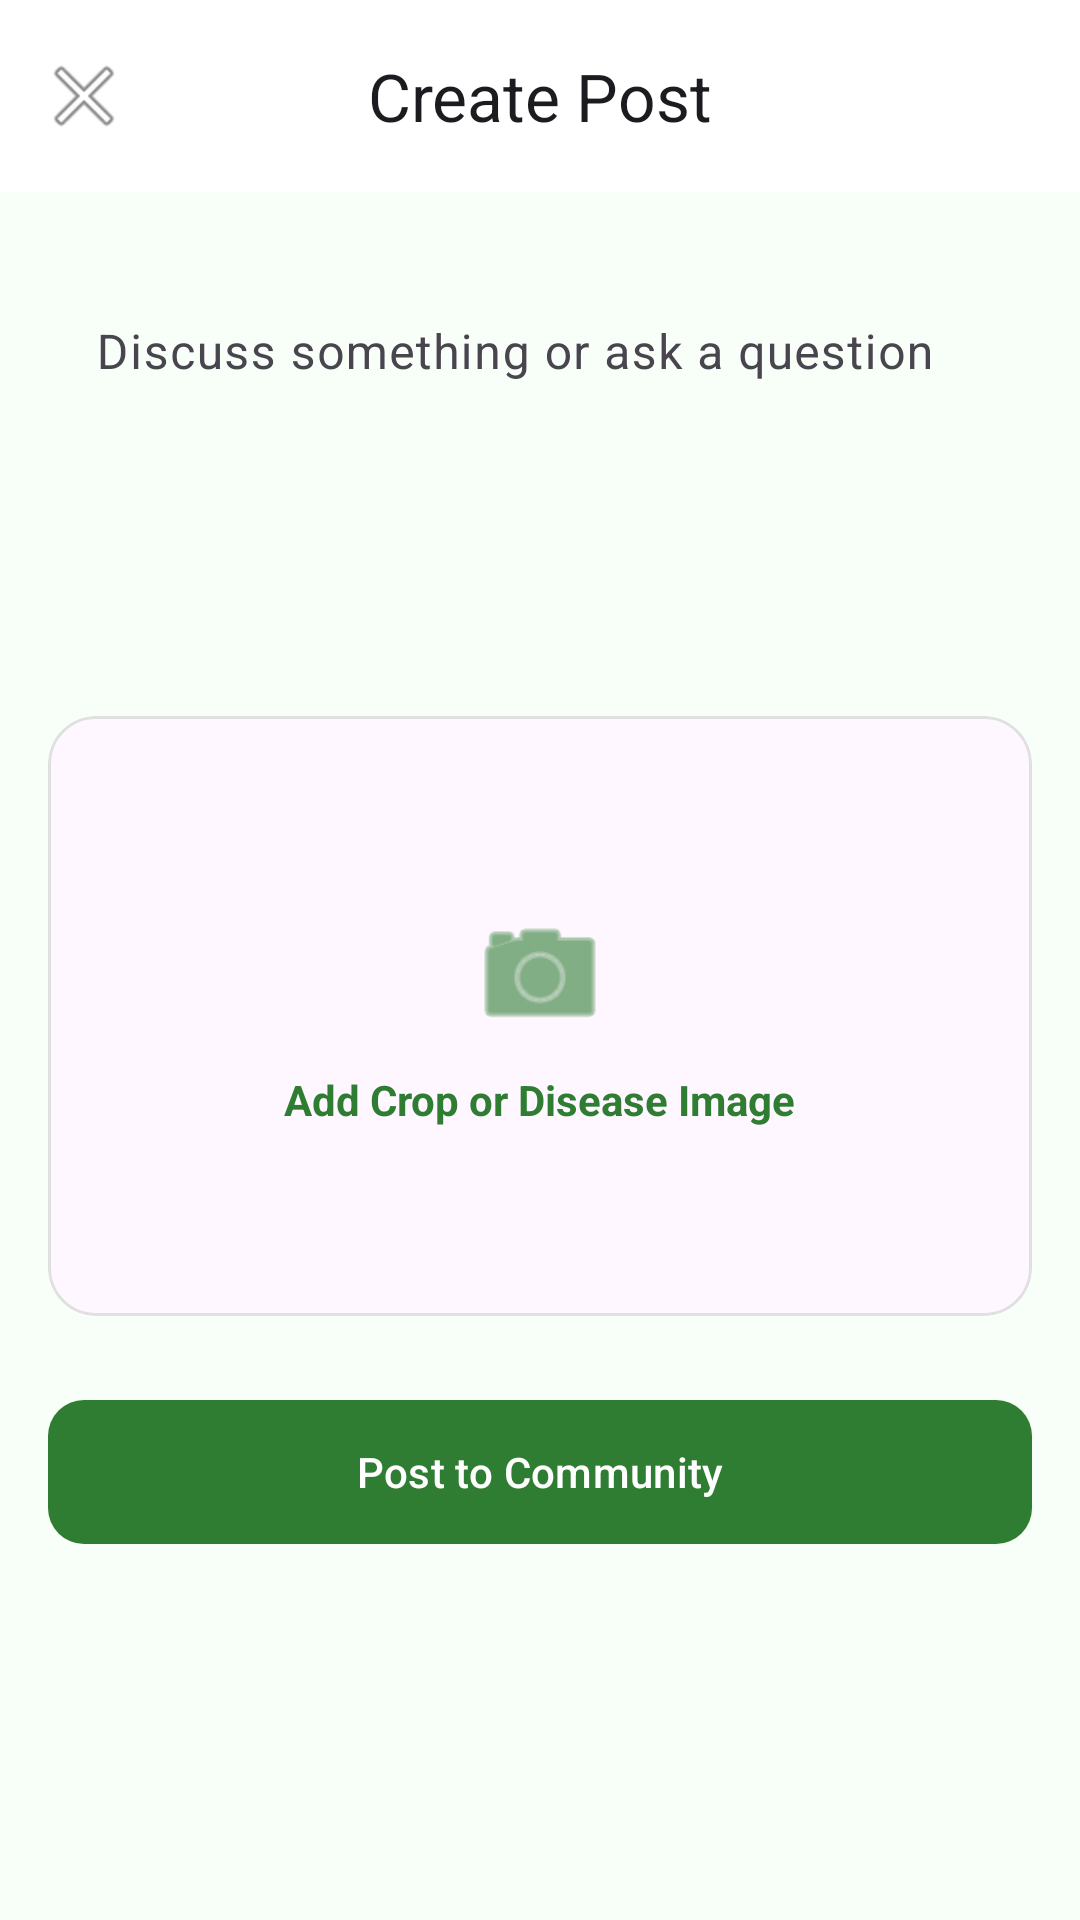

Icons on this 1080px x 1920px Android screen, each with its box as [x1,y1,x2,y2]:
camera: [484,928,596,1017]
